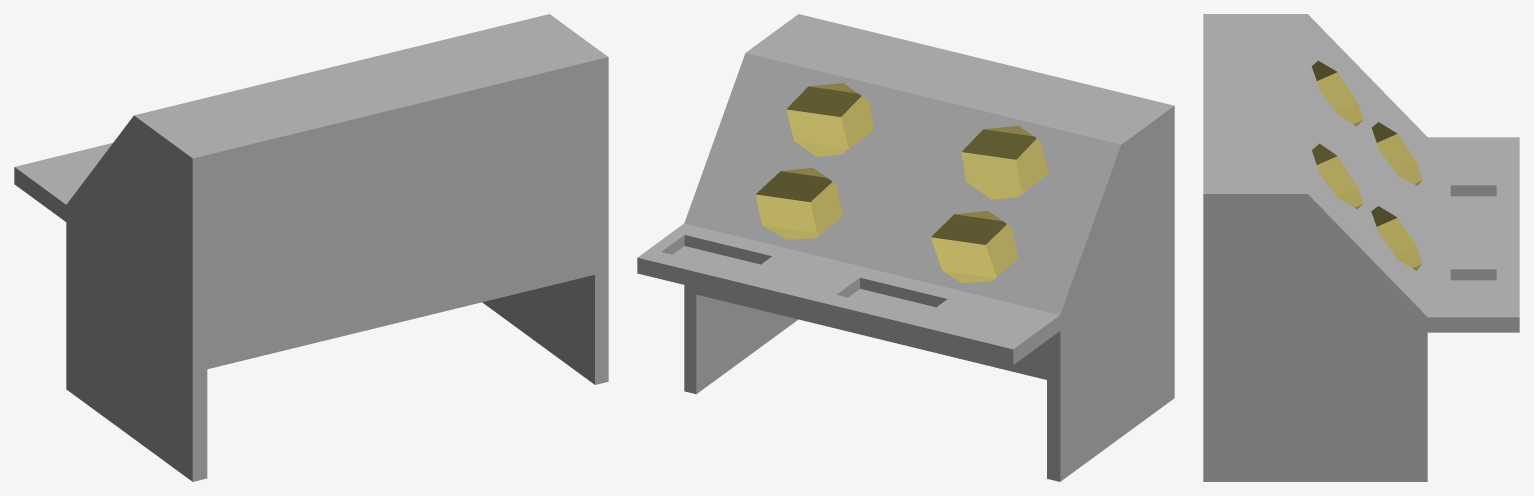
The model's file is porta_talheres.glb.
3 views of the same model, side by side, from view 1: azimuth 30°, elevation 25°; view 2: azimuth 150°, elevation 25°; view 3: azimuth 270°, elevation 25° (orthographic). The views are drawn at different scales.
Visible parts, largest first — view 1: Cube.018; view 2: Cube.018; view 3: Cube.018.
Boxes of the visible parts, x1,y1,x2,y2 form: Cube.018: (14, 14, 608, 481); Cube.018: (637, 14, 1174, 481); Cube.018: (1203, 14, 1519, 481).
Size of the model in its own units: 2.16 by 1.61 by 1.61.
